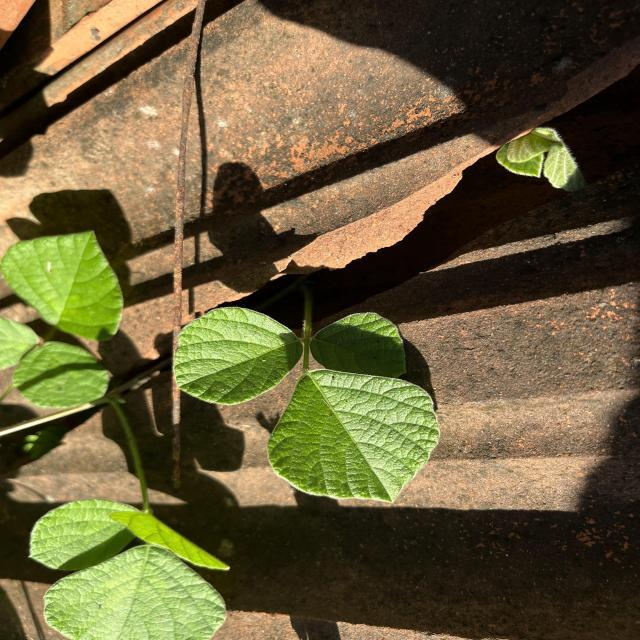Pseudarthria viscida: (171, 298, 442, 508)
